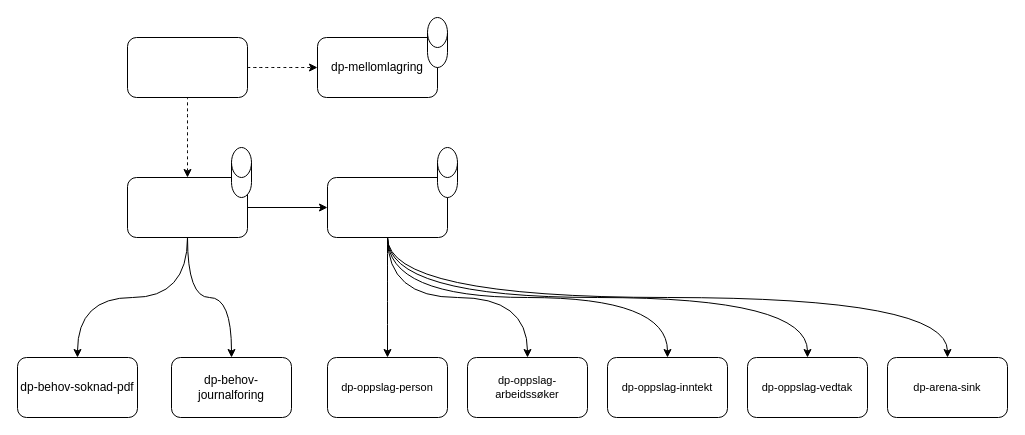
This 1025x435 diagram has some shape labels left out. Each missing label, with the box of its shape:
dp-quiz: (326, 176, 448, 238)
dp-soknad: (126, 176, 248, 238)
dp-soknadsdialog: (126, 36, 248, 98)
